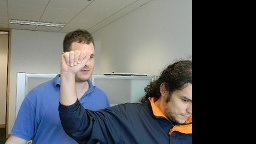Pugno: (57, 49, 93, 71)
